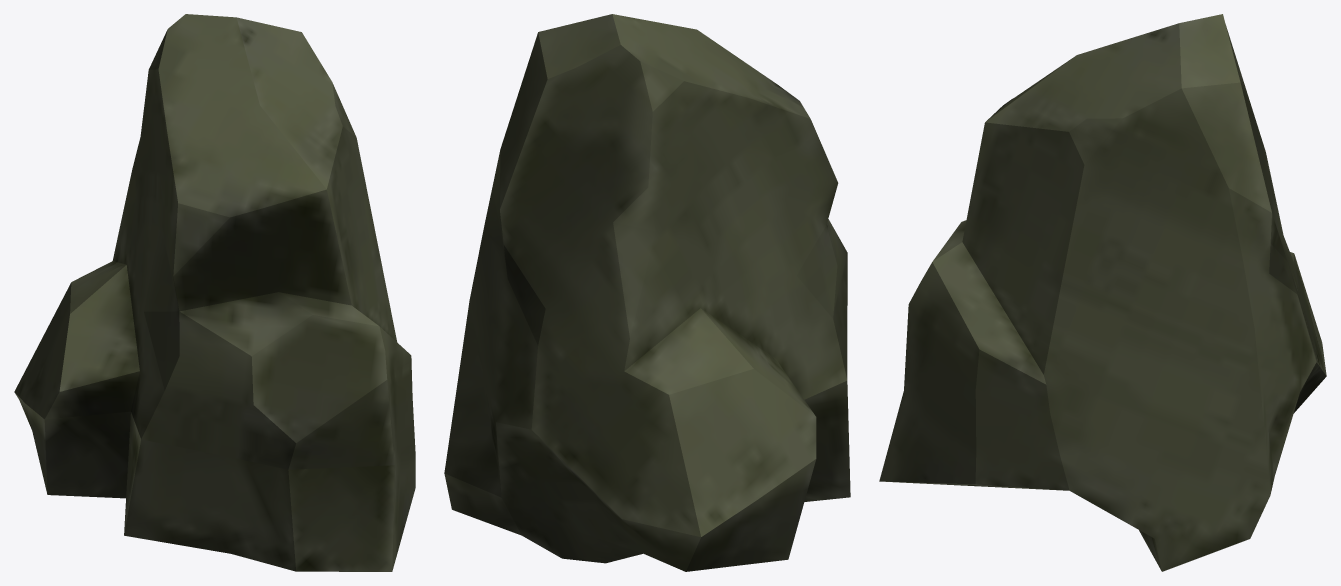
File: Rock_1_upright.glb
3 views of the same model, side by side, from view 1: azimuth 30°, elevation 25°; view 2: azimuth 150°, elevation 25°; view 3: azimuth 270°, elevation 25° (orthographic). The views are drawn at different scales.
Parts seen in each view (by area): view 1: Rock_1; view 2: Rock_1; view 3: Rock_1.
Boxes of the visible parts, box(x1,y1,x2,y2) form: Rock_1: box(14, 14, 415, 571); Rock_1: box(444, 14, 850, 571); Rock_1: box(879, 14, 1326, 571).
Size of the model in its own units: 0.7107 by 1.08 by 0.8874.
1 material, 1 textured.
